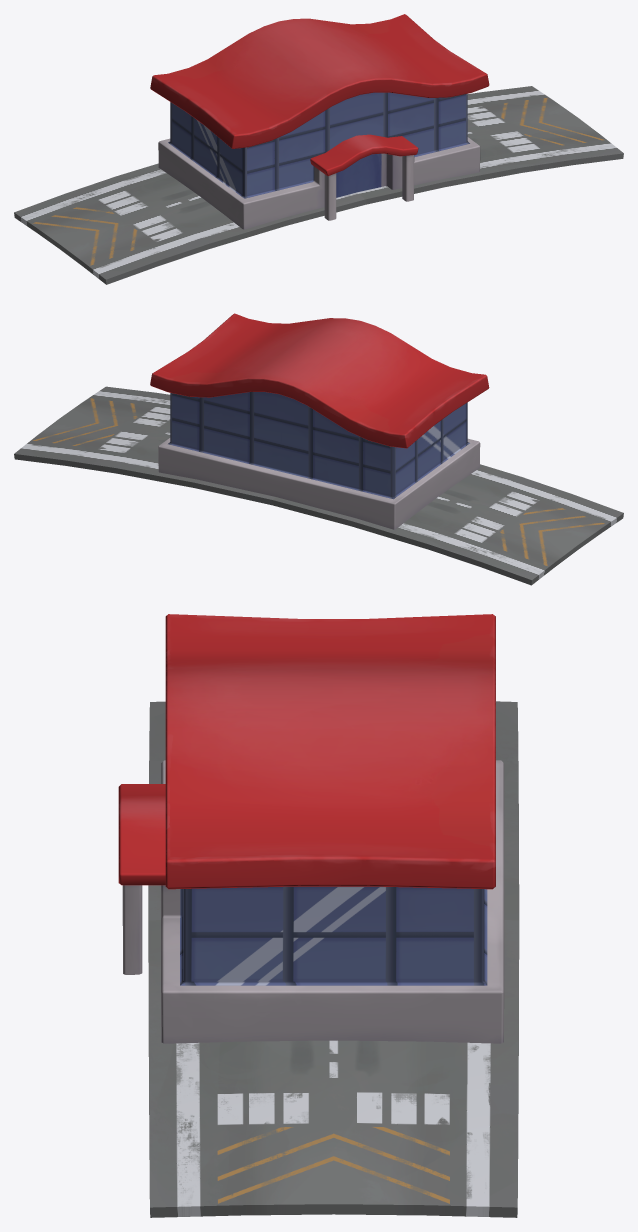
Rendered from airport.fbx.
The picture shows the model from 3 angles, top to bottom: view 1: azimuth 30°, elevation 25°; view 2: azimuth 150°, elevation 25°; view 3: azimuth 270°, elevation 25°; orthographic projection. The views are drawn at different scales.
Parts seen in each view (by area): view 1: airport_0, runway; view 2: airport_0, runway; view 3: airport_0, runway.
Part boxes in pixels (bbox=[...]): airport_0: bbox=[150, 14, 489, 229]; runway: bbox=[14, 86, 623, 284]; airport_0: bbox=[150, 313, 489, 529]; runway: bbox=[14, 386, 623, 585]; airport_0: bbox=[118, 614, 504, 1043]; runway: bbox=[148, 701, 519, 1217].
Bounding box in the file's own units: 1982 × 504 × 663.
